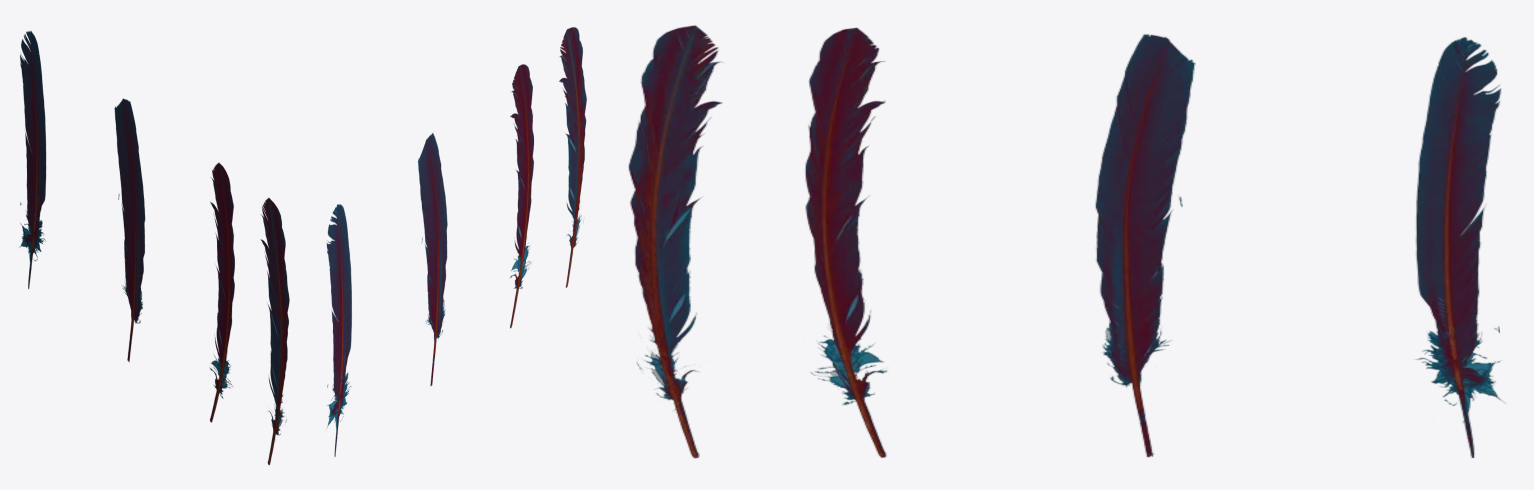
File: Bird_Feather_Gray.glb
3 views of the same model, side by side, from view 1: azimuth 30°, elevation 25°; view 2: azimuth 150°, elevation 25°; view 3: azimuth 270°, elevation 25° (orthographic). The views are drawn at different scales.
Parts seen in each view (by area): view 1: Object_3; view 2: Object_3; view 3: Object_3.
Part boxes in pixels (x1,y1,x2,y2): Object_3: [19, 30, 289, 465]; Object_3: [326, 27, 586, 457]; Object_3: [628, 25, 1505, 458].
Size of the model in its own units: 1.89e-06 by 0.2826 by 0.5.
1 material, 1 textured.
